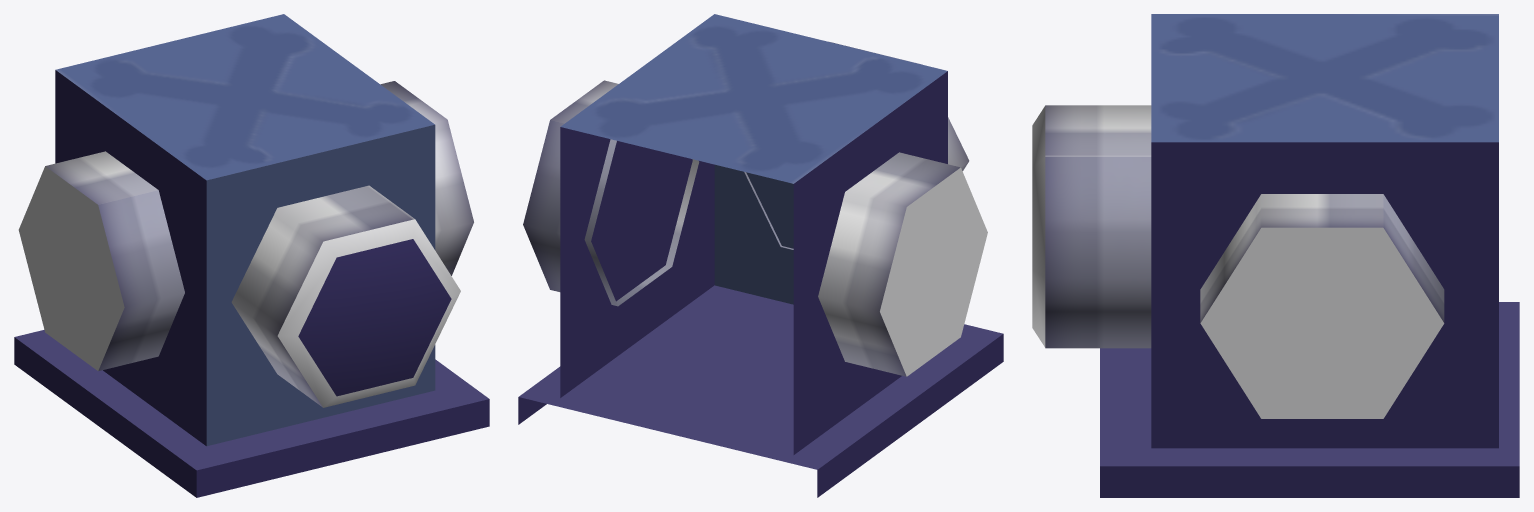
Rendered from 炮_BG01png.FBX.
3 renders of one model, left to right at view 1: azimuth 30°, elevation 25°; view 2: azimuth 150°, elevation 25°; view 3: azimuth 270°, elevation 25°, orthographic. The views are drawn at different scales.
Visible parts, largest first — view 1: Box002; view 2: Box002; view 3: Box002.
Part boxes in pixels (box(x1,y1,x2,y2)): Box002: box(14, 14, 489, 497); Box002: box(518, 14, 1003, 497); Box002: box(1032, 14, 1519, 497).
Size of the model in its own units: 1.02 by 0.82 by 1.07.
